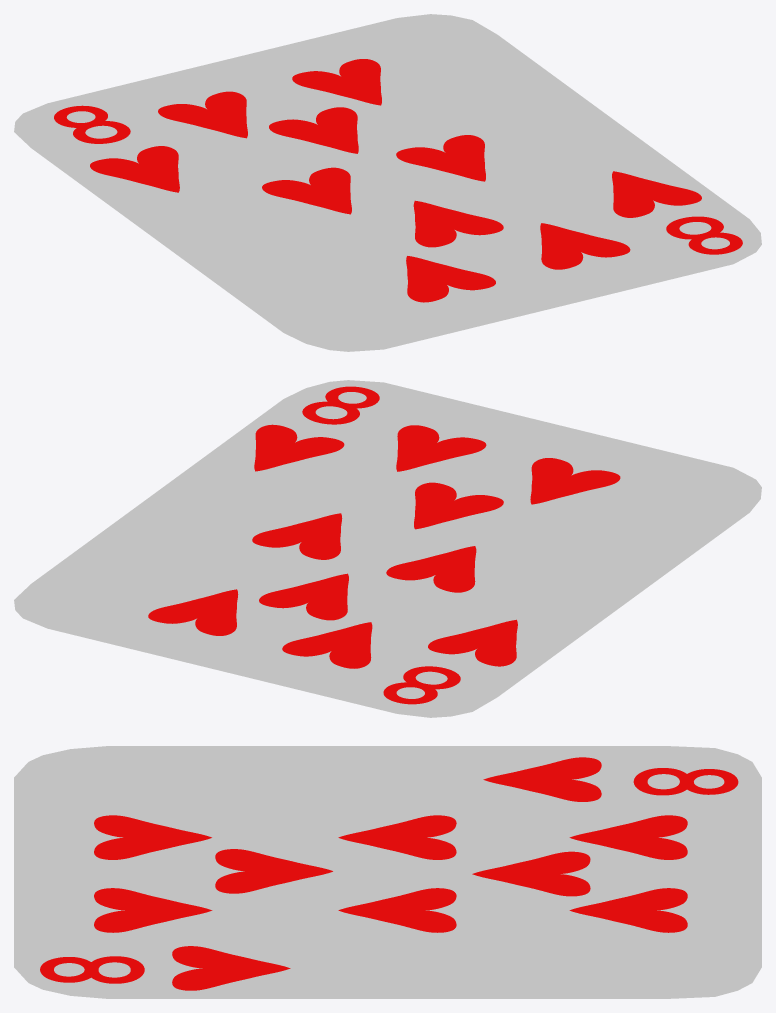
3 renders of one model, top to bottom at view 1: azimuth 30°, elevation 25°; view 2: azimuth 150°, elevation 25°; view 3: azimuth 270°, elevation 25°, orthographic. The views are drawn at different scales.
Visible parts, largest first — view 1: 8ofHearts, Plane.047_Red, Plane.042_Red, Plane.046_Red, Plane.041_Red, Plane.049_Red, Plane.050_Red, Plane.048_Red, Plane.044_Red, Plane.043_Red, Plane.045_Red, Font.016_Bla_Blac.002 (+1 smaller); view 2: 8ofHearts, Plane.047_Red, Plane.046_Red, Plane.043_Red, Plane.041_Red, Plane.042_Red, Plane.049_Red, Plane.044_Red, Plane.048_Red, Plane.050_Red, Plane.045_Red, Font.016_Bla_Blac.002 (+1 smaller); view 3: 8ofHearts, Plane.041_Red, Plane.047_Red, Plane.050_Red, Plane.043_Red, Plane.046_Red, Plane.049_Red, Plane.042_Red, Plane.044_Red, Plane.048_Red, Plane.045_Red, Font.016_Bla_Blac.002 (+1 smaller).
Part boxes in pixels (x1,y1,x2,y2): 8ofHearts: (14, 14, 761, 351); Plane.047_Red: (540, 223, 630, 269); Plane.042_Red: (612, 171, 701, 217); Plane.046_Red: (406, 256, 495, 302); Plane.041_Red: (269, 107, 358, 153); Plane.049_Red: (262, 167, 351, 214); Plane.050_Red: (413, 200, 503, 247); Plane.048_Red: (396, 135, 485, 181); Plane.044_Red: (158, 91, 247, 138); Plane.043_Red: (90, 146, 179, 192); Plane.045_Red: (292, 59, 381, 105); Font.016_Bla_Blac.002: (666, 216, 742, 254); 8ofHearts: (14, 380, 761, 717); Plane.047_Red: (396, 425, 486, 471); Plane.046_Red: (530, 458, 620, 504); Plane.043_Red: (428, 619, 517, 666); Plane.041_Red: (259, 573, 348, 620); Plane.042_Red: (254, 424, 344, 471); Plane.049_Red: (386, 546, 476, 592); Plane.044_Red: (282, 622, 372, 668); Plane.048_Red: (252, 513, 342, 559); Plane.050_Red: (414, 482, 503, 529); Plane.045_Red: (148, 589, 238, 635); Font.016_Bla_Blac.002: (302, 386, 379, 424); 8ofHearts: (14, 746, 761, 998); Plane.041_Red: (472, 851, 590, 896); Plane.047_Red: (94, 888, 212, 932); Plane.050_Red: (215, 849, 332, 893); Plane.043_Red: (483, 757, 601, 801); Plane.046_Red: (94, 815, 211, 859); Plane.049_Red: (338, 815, 456, 859); Plane.042_Red: (172, 946, 290, 990); Plane.044_Red: (569, 815, 687, 859); Plane.048_Red: (338, 888, 456, 932); Plane.045_Red: (569, 888, 687, 932); Font.016_Bla_Blac.002: (40, 956, 144, 983).
Bounding box in the file's own units: 1.6 × 0.00355 × 2.
